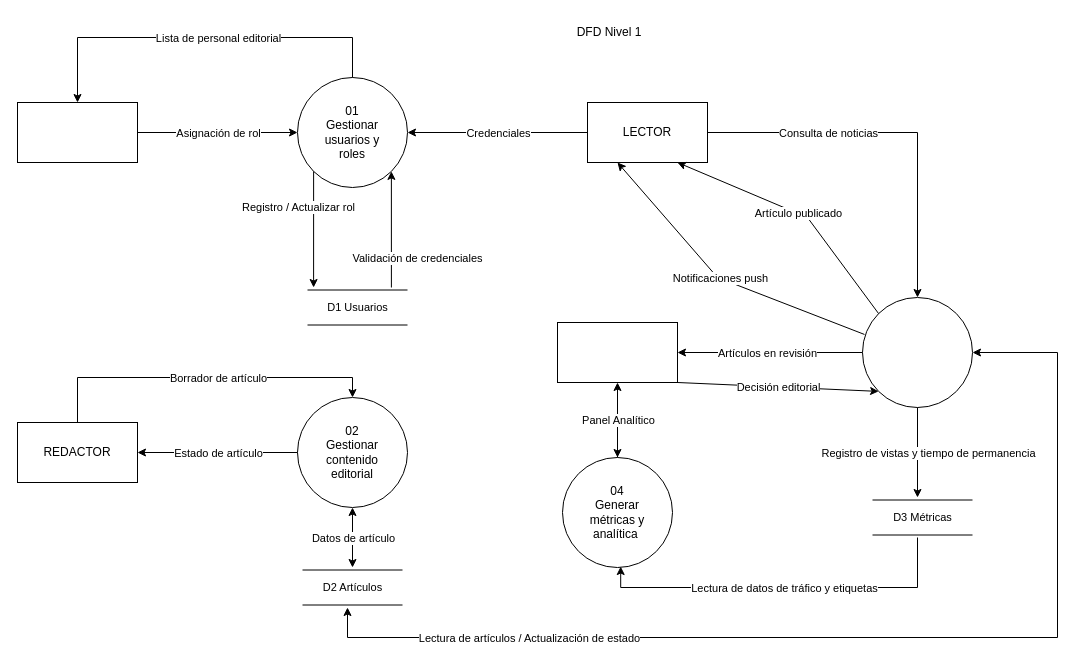
Some shapes in this 1083 by 663 pixel diagram are drawn without their labels. Here are the shapes that lost their labels. From the top down, the box of each, then its label:
(16, 102, 138, 162): ADMINISTRADOR
(556, 322, 678, 382): EDITOR
(862, 296, 972, 408): 03 Gestionar publicación y lectura
